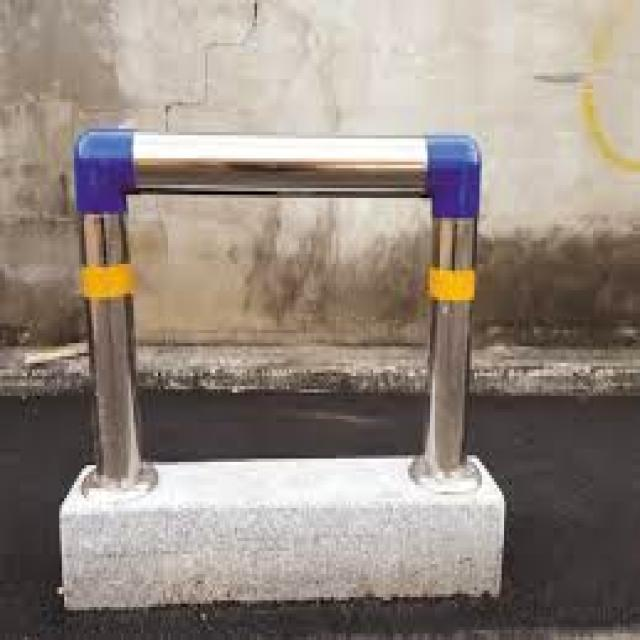bollard: (63, 88, 495, 498)
